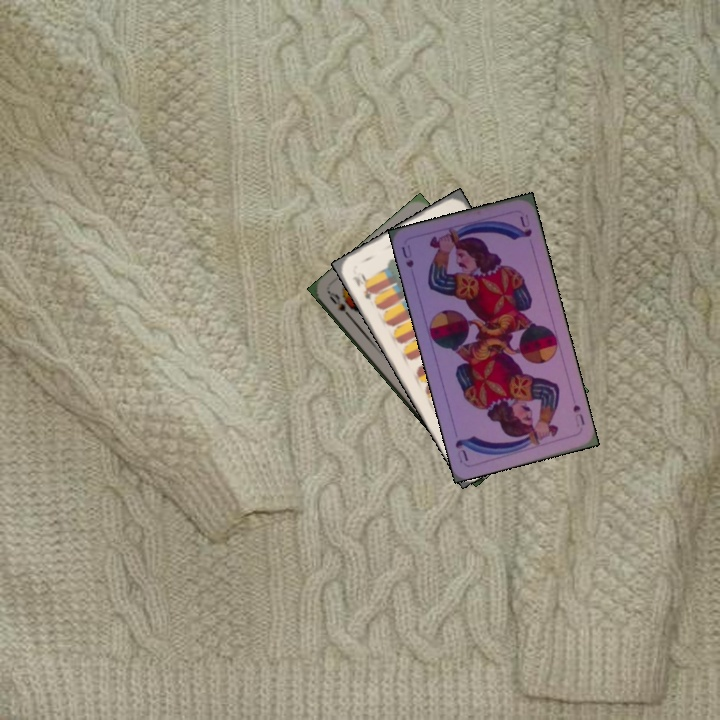E10: (348, 270, 375, 303)
SO: (325, 288, 356, 323)
SU: (397, 241, 416, 270), (569, 400, 587, 429)
